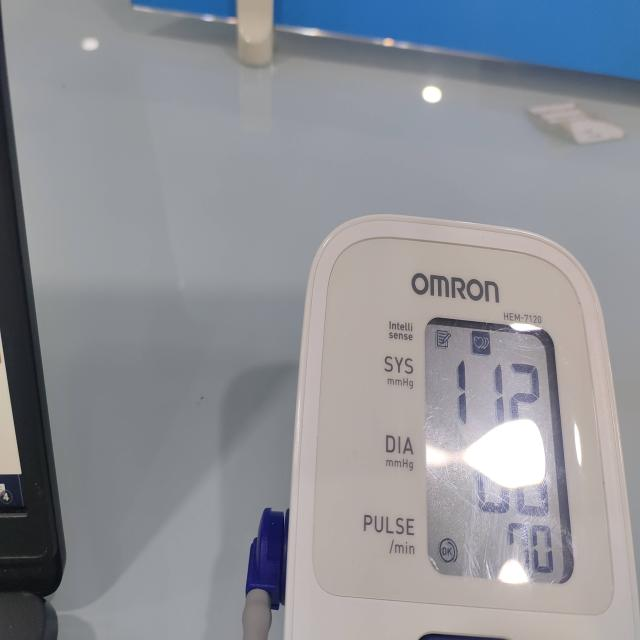bp: (278, 215, 640, 640)
